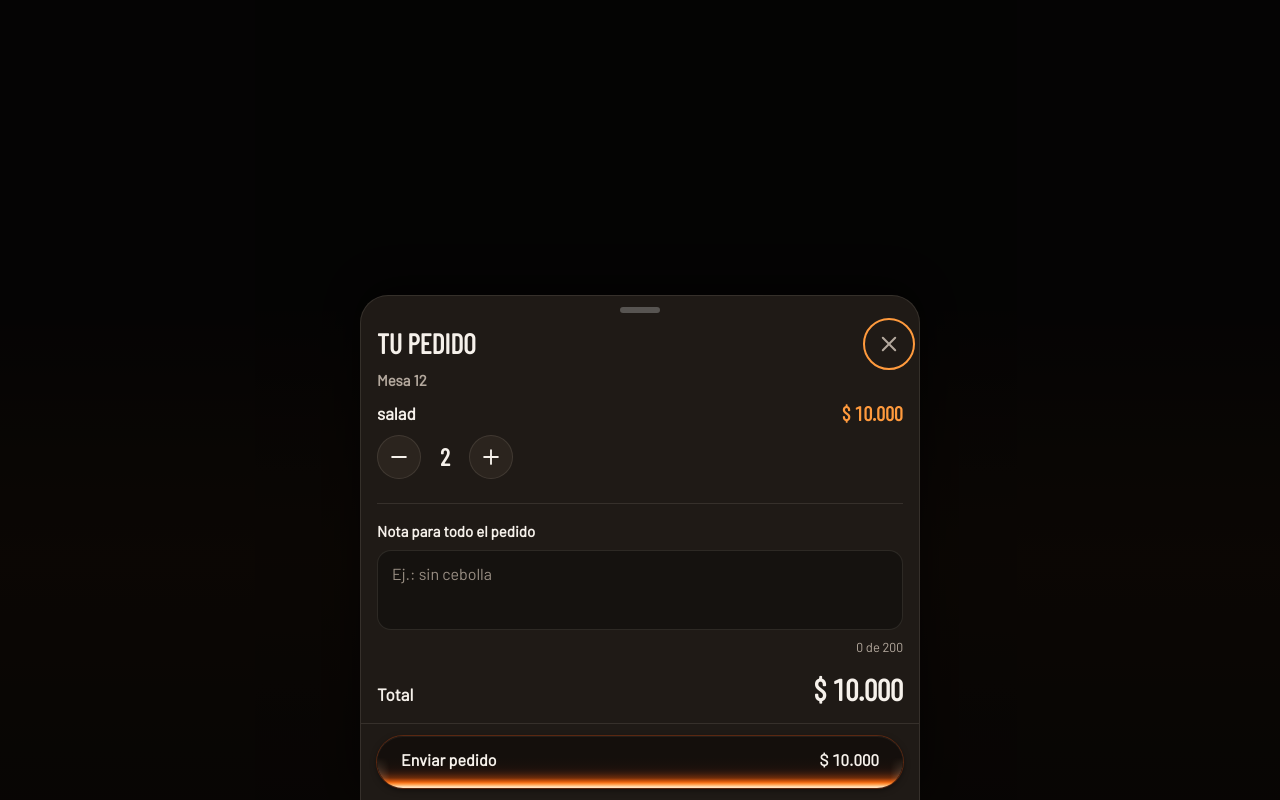
CartSheet: resumen y envío del pedido (RF2, RF20-RF22, RF24-RF27, RF44; plan §5.4) › el restaurante rechaza el pedido (RF27, RF46) › PRICE_CHANGED frena el envío y muestra el aviso con los totales; no hay "Enviar pedido" hasta decidir
This screenshot has width=1280, height=800.
Click the button "Enviar pedido $ 10.000": [449, 760] box [377,736,903,788]
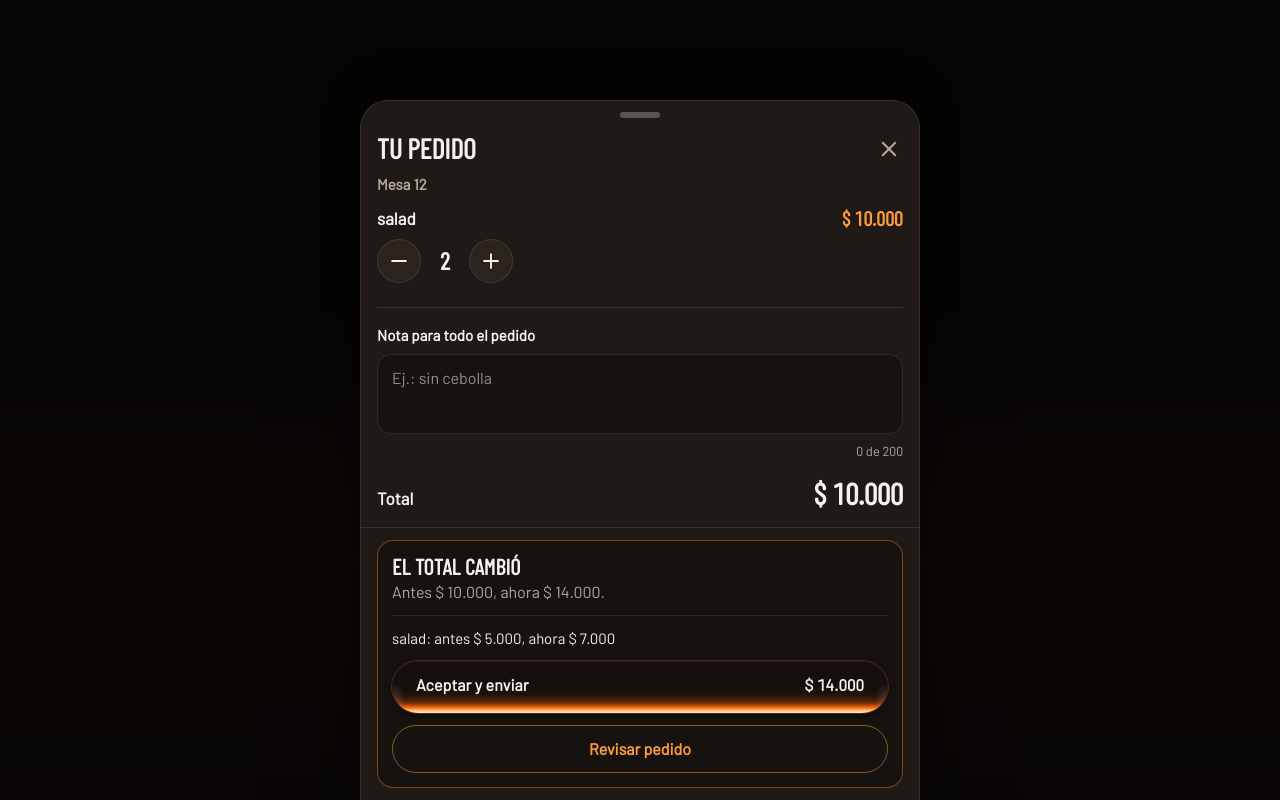
Result: the message shows "El total cambió" at [392,553,520,579]
Result: the button "Enviar pedido" is gone
